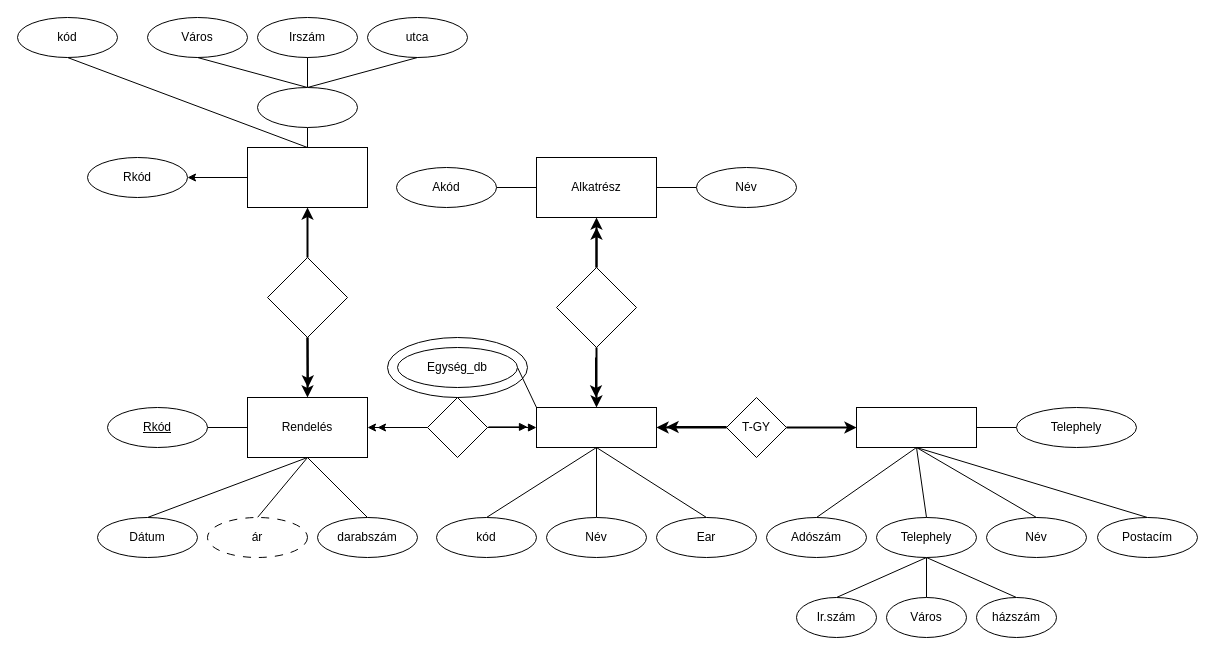
The diagram is 1215 pixels wide and 655 high, and some of its shapes have lost their labels. Here are the shapes that lost their labels. From the top down, the centre of each, then its label:
At point (307, 107): "Postakód".
At point (307, 177): "Vevő".
At point (307, 297): "R_V".
At point (596, 307): "T_A".
At point (457, 427): "Ib.T".
At point (596, 427): "Termék".
At point (916, 427): "Gyártó".
